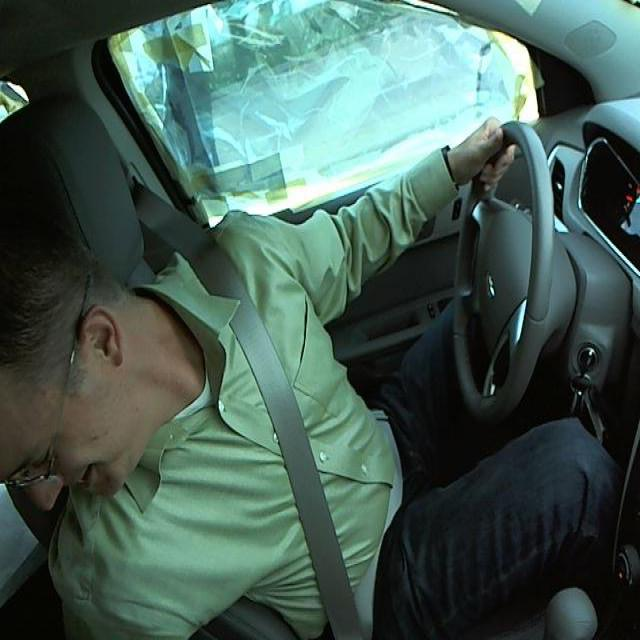seatbelt: (218, 290, 377, 634)
